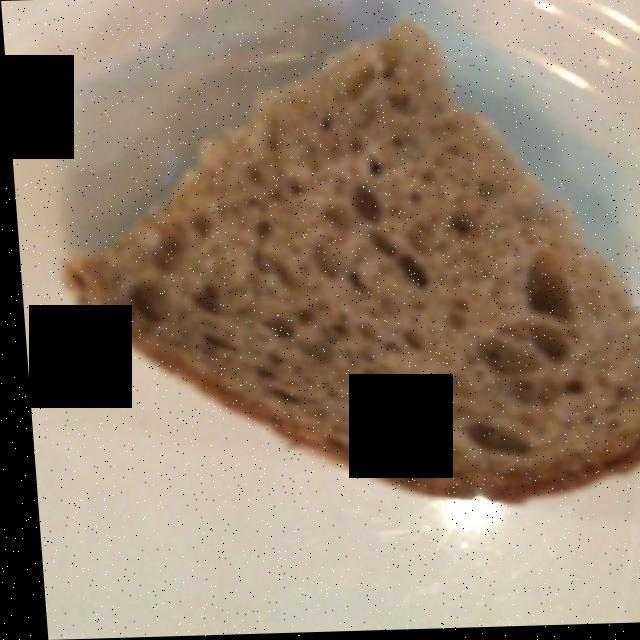bread: (76, 40, 640, 496)
